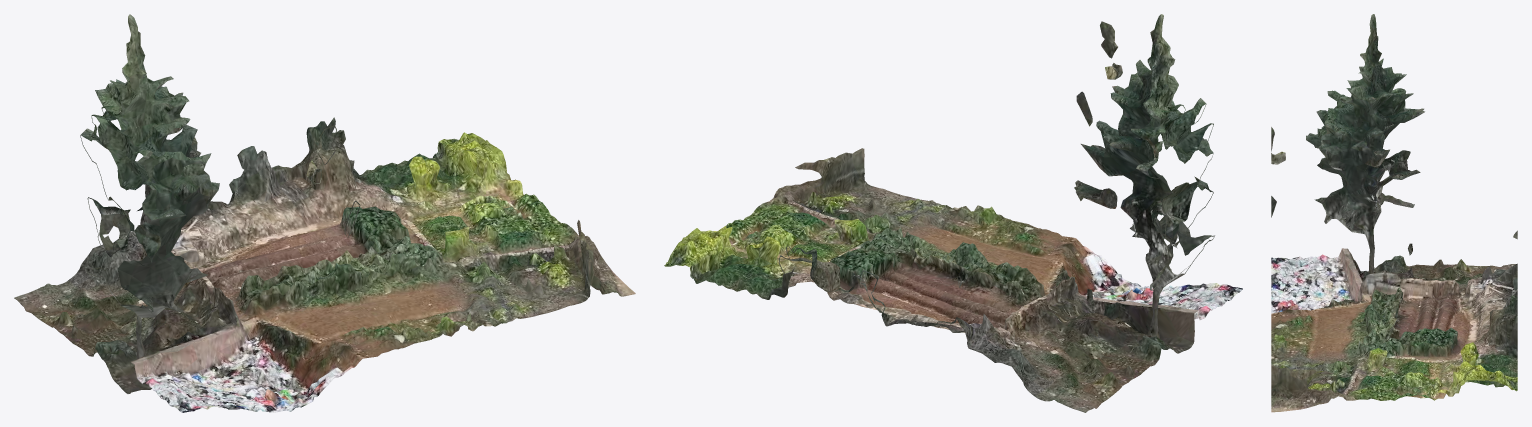
The model's file is BlockBBYX_L20_6.glb.
The picture shows the model from 3 angles, left to right: view 1: azimuth 30°, elevation 25°; view 2: azimuth 150°, elevation 25°; view 3: azimuth 270°, elevation 25°; orthographic projection. The views are drawn at different scales.
Parts seen in each view (by area): view 1: rtc; view 2: rtc; view 3: rtc.
Boxes of the visible parts, bbox=[...] form: rtc: bbox=[14, 14, 635, 412]; rtc: bbox=[664, 14, 1242, 412]; rtc: bbox=[1271, 14, 1517, 412].
Size of the model in its own units: 21.66 by 16.97 by 14.01.
Materials: 1 (1 with a texture image).
